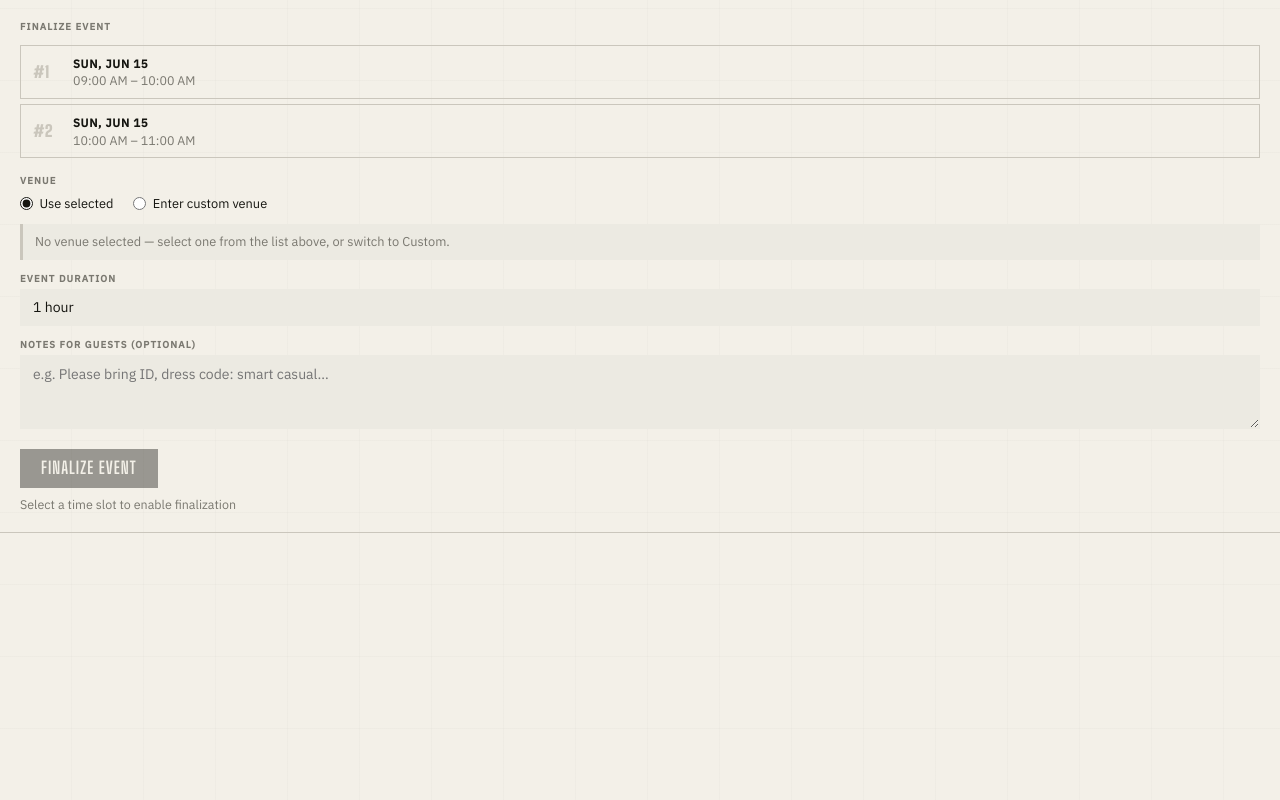
Test: FinalizePanel › shows error message when finalization fails
Step 1. Click the button with test id "slot-card-slot-1" → coordinates (111, 63), box [20,45,1260,99]
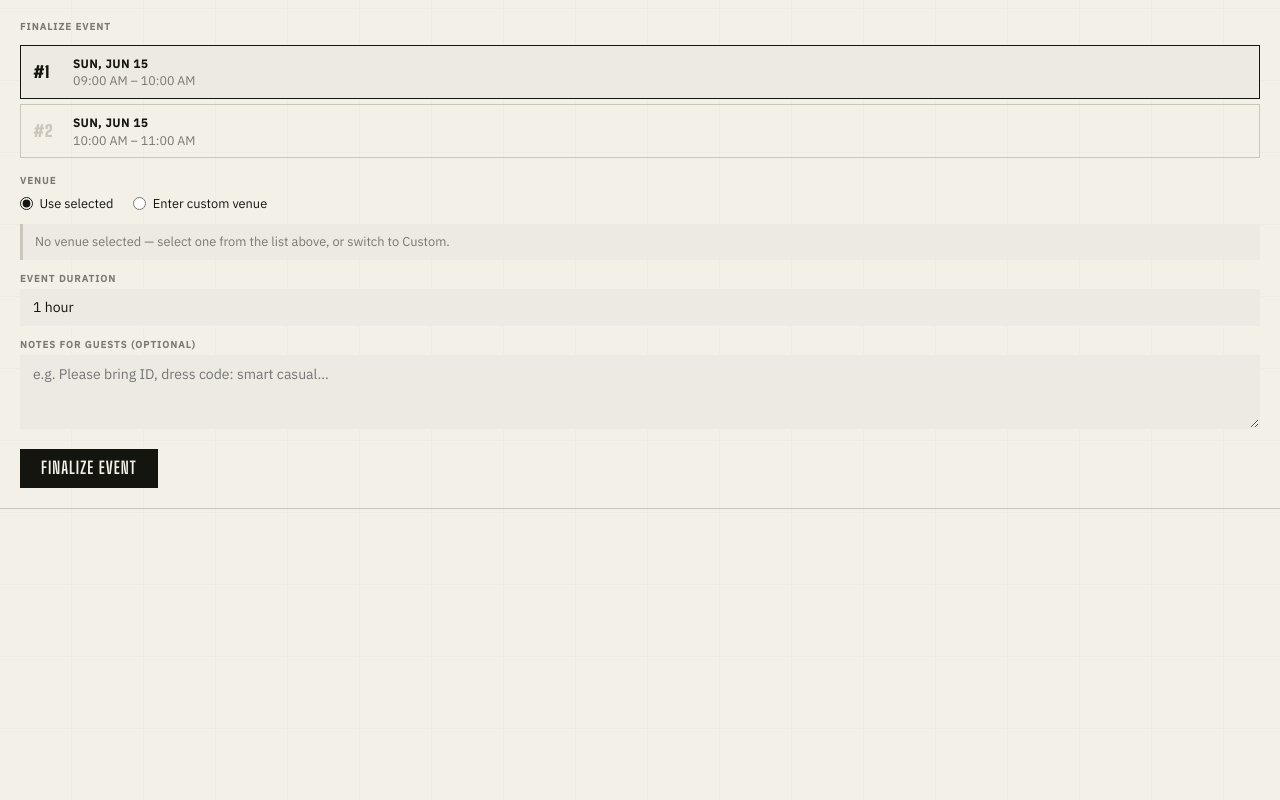
Step 2. Click the button with test id "finalize-btn" → coordinates (89, 469), box [20,449,158,488]
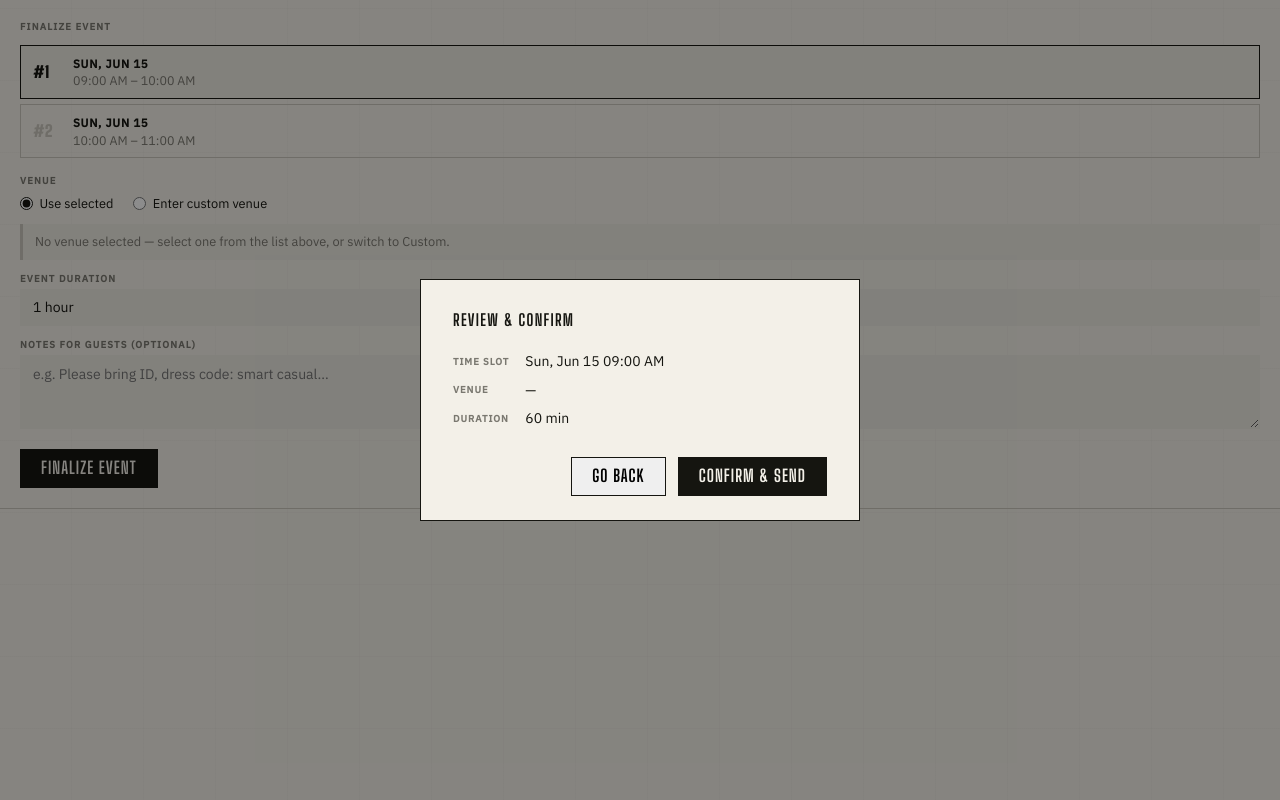
Step 3. Click the button with test id "confirm-send-btn" → coordinates (752, 477), box [678,457,827,496]
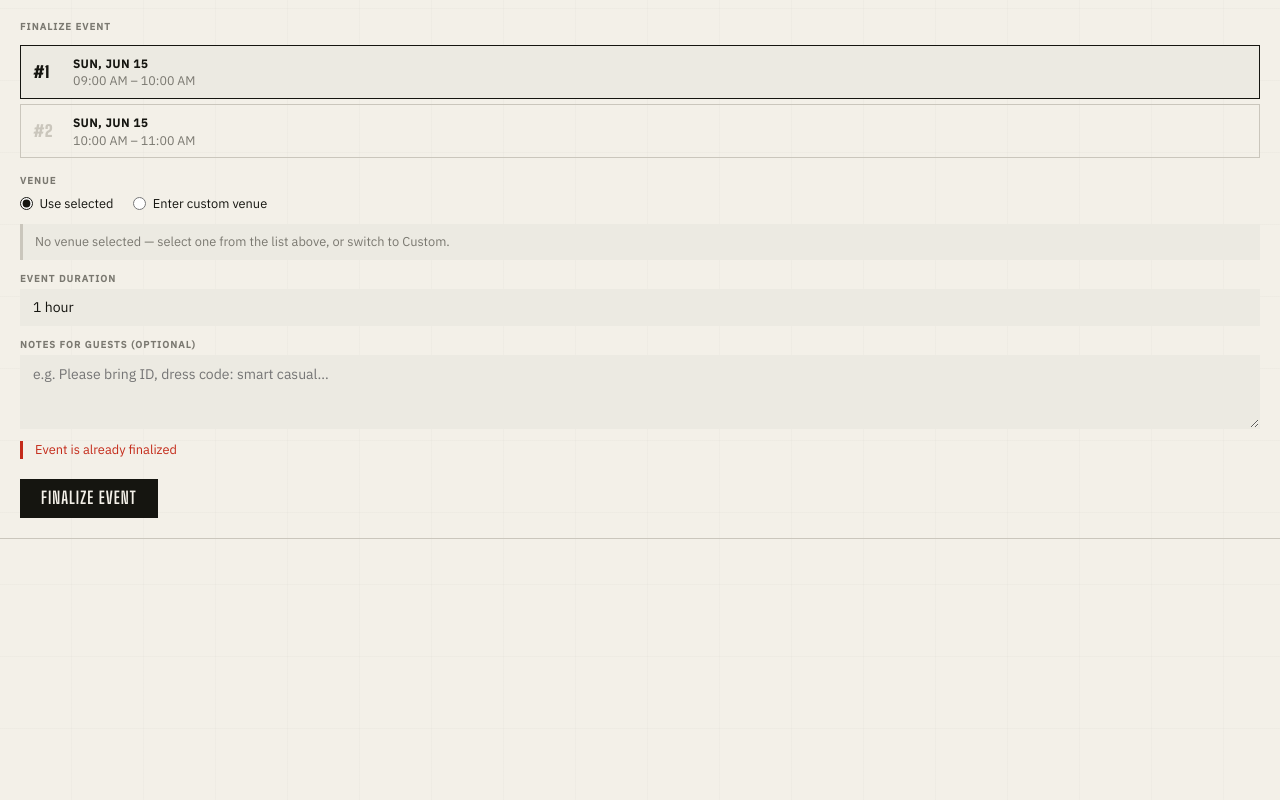
Result: the message reads "Event is already finalized" at [35,441,177,458]
